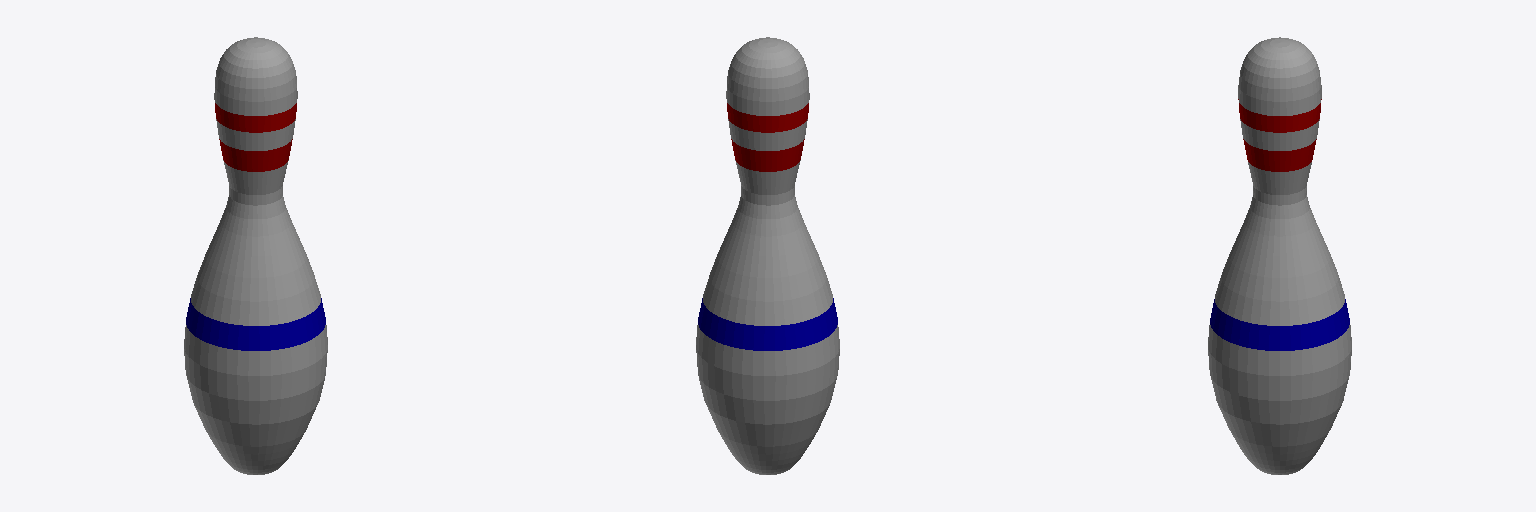
Rendered from bowlingpin.obj.
3 views of the same model, side by side, from view 1: azimuth 30°, elevation 25°; view 2: azimuth 150°, elevation 25°; view 3: azimuth 270°, elevation 25° (orthographic).
Visible parts, largest first — view 1: Pin_Mesh; view 2: Pin_Mesh; view 3: Pin_Mesh.
Part boxes in pixels (x1,y1,x2,y2): Pin_Mesh: (184, 37, 327, 474); Pin_Mesh: (696, 37, 839, 474); Pin_Mesh: (1208, 37, 1351, 474).
Bounding box in the file's own units: 0.4794 × 1.56 × 0.4794.